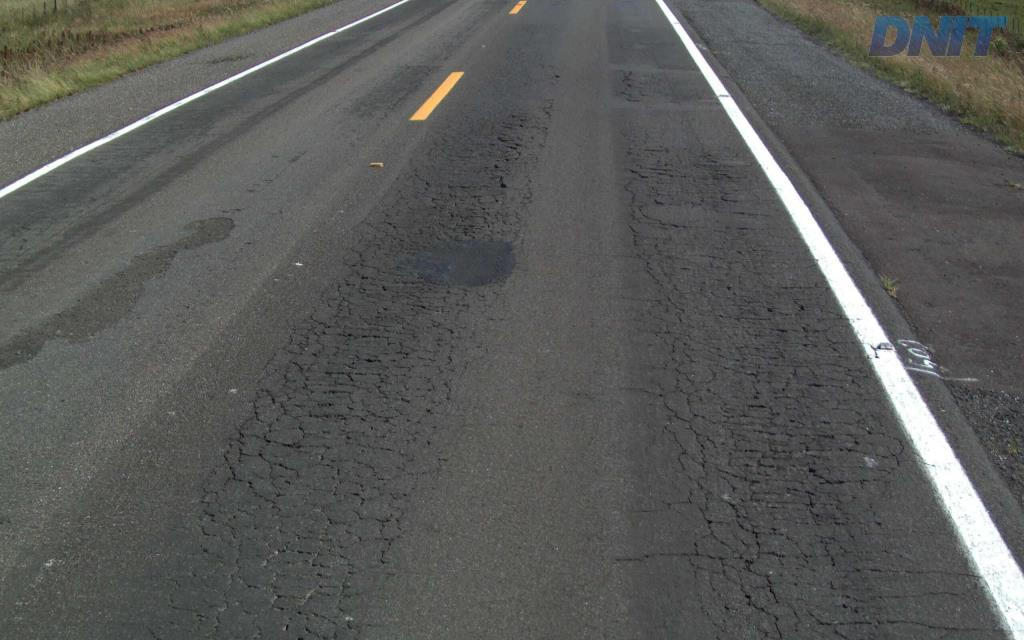crack: (719, 497, 786, 566), (711, 462, 778, 520), (798, 428, 851, 485), (336, 308, 396, 346), (464, 242, 512, 287), (801, 485, 850, 526), (391, 259, 450, 293), (756, 440, 796, 472)
